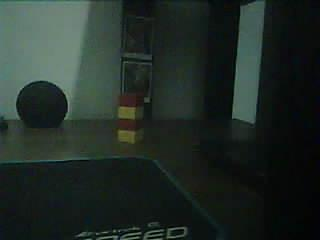lego: (117, 94, 145, 143)
